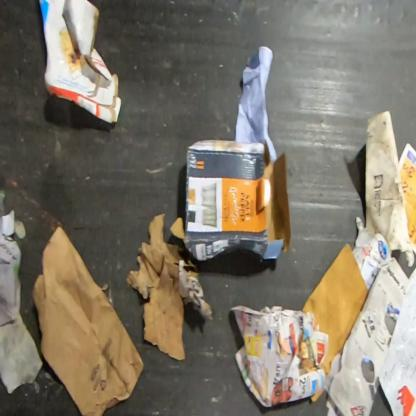cardboard: (30, 225, 146, 415), (183, 138, 292, 264), (125, 213, 215, 362), (38, 0, 123, 125), (301, 240, 370, 377), (0, 207, 23, 328), (309, 386, 325, 404)
